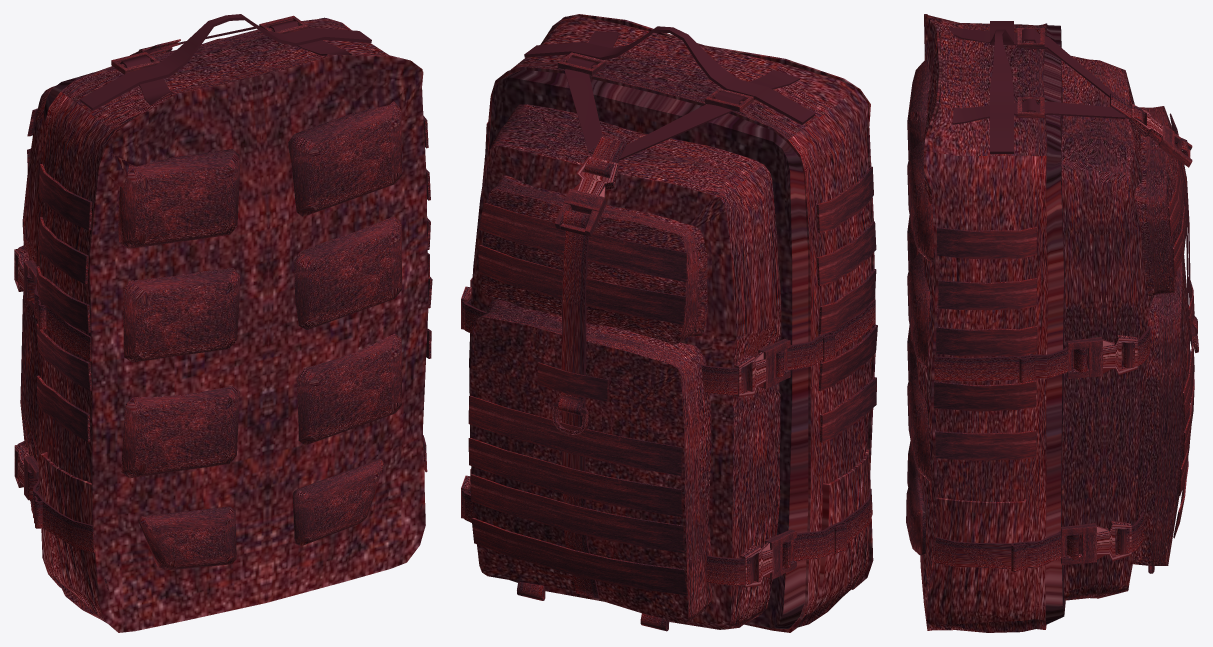
Rendered from RedBP.fbx.
3 views of the same model, side by side, from view 1: azimuth 30°, elevation 25°; view 2: azimuth 150°, elevation 25°; view 3: azimuth 270°, elevation 25° (orthographic). The views are drawn at different scales.
Visible parts, largest first — view 1: backpack.001; view 2: backpack.001; view 3: backpack.001.
Part boxes in pixels (x1,y1,x2,y2): backpack.001: (14,14,432,632); backpack.001: (461,14,877,632); backpack.001: (906,14,1198,632).
Bounding box in the file's own units: 32.68 × 48.05 × 23.7.
